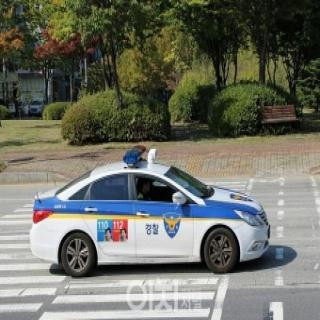Police_car: (29, 144, 273, 278)
